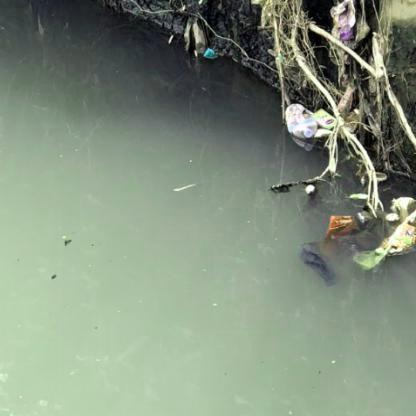Plastic: (284, 101, 318, 143)
Trash: (291, 240, 340, 289), (320, 209, 362, 243), (312, 106, 339, 133)
